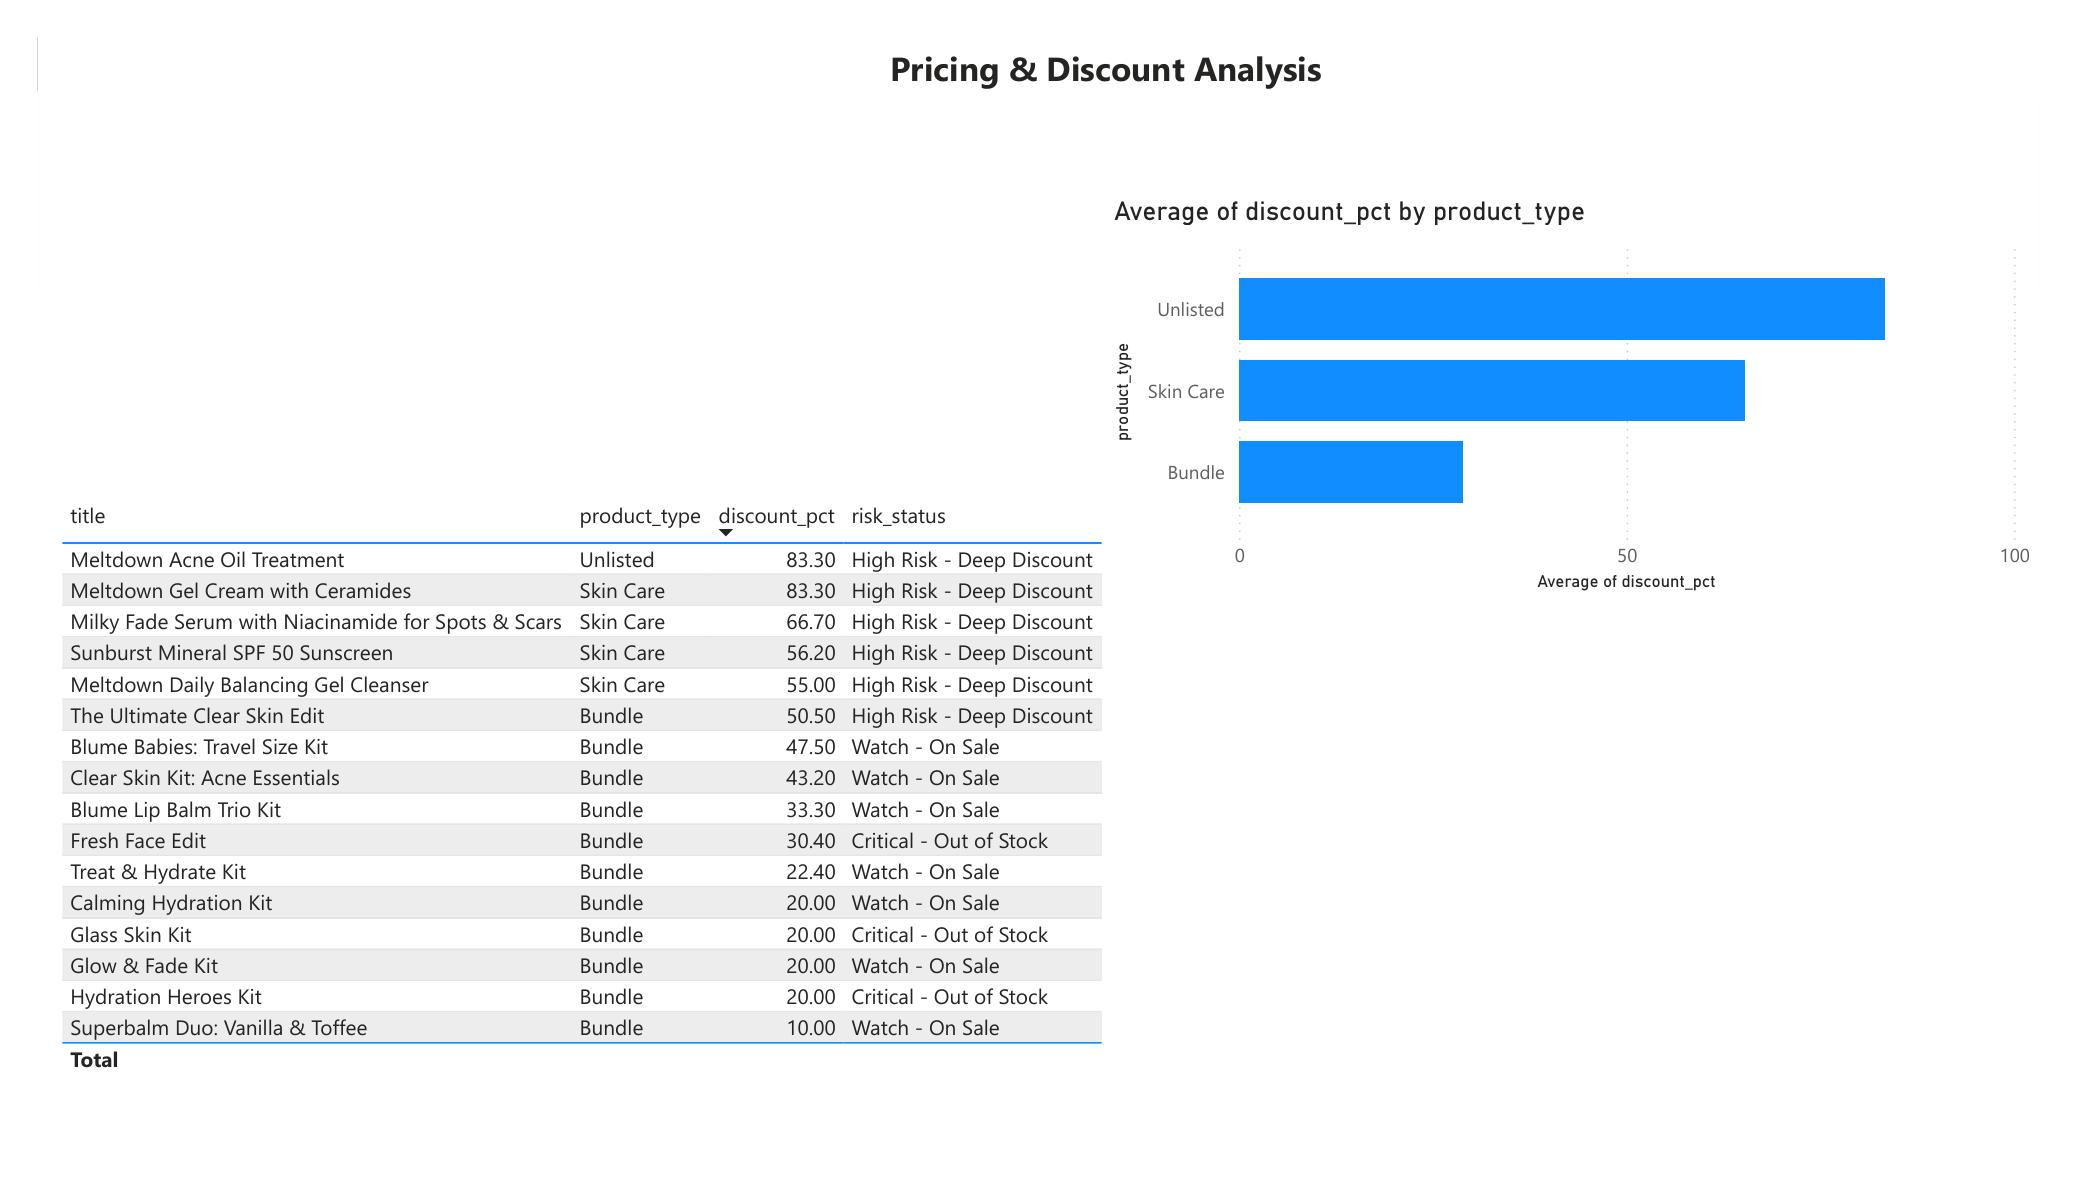

The page's visual inventory and layout, read from the dashboard file:
{"tool":"powerbi","page":{"name":"Pricing & Discounts","canvas":[1280,720],"ordinal":1},"visuals":[{"type":"clusteredBarChart","fields":{"Category":["query 8 blume.product_type"],"Y":["Avg(query 8 blume.discount_pct)"]},"box":[585,60,643.3,270],"z":0},{"type":"tableEx","fields":{"Values":["query 8 blume.title","query 8 blume.product_type","query 8 blume.discount_pct","query 8 blume.risk_status"]},"box":[0,348.3,690,371.7],"z":1000},{"type":"textbox","box":[399.8,0,567.8,60.5],"z":2000}]}

Visuals, with their boxes on the page's 1280x720 design canvas (x1, y1, x2, y2). These are canvas units, not pixel positions in the 2075x1200 screenshot, which may show the page scaled, cropped or inside an application window:
clusteredBarChart - query 8 blume.product_type x Avg(query 8 blume.discount_pct): 585,60,1228,330
tableEx - query 8 blume.title x query 8 blume.product_type: 0,348,690,720
textbox: 400,0,968,60
